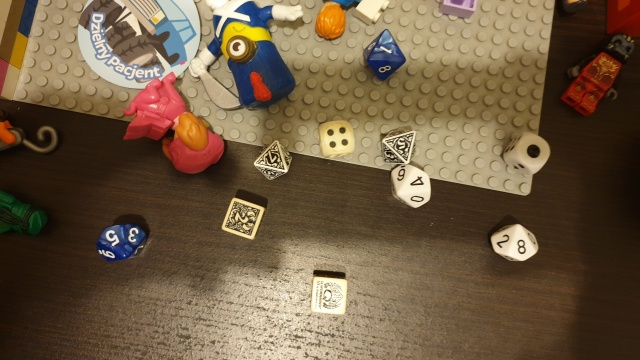d10-1: (361, 27, 408, 83)
d10-4: (388, 164, 438, 211)
d10-5: (92, 220, 154, 264)
d10-8: (487, 219, 543, 265)
d6-1: (504, 127, 550, 179)
d6-4: (317, 118, 355, 159)
d6p-2: (217, 194, 265, 245)
d6p-6: (306, 272, 351, 317)
d8p-5: (379, 125, 419, 167)
d8p-7: (253, 140, 294, 181)
